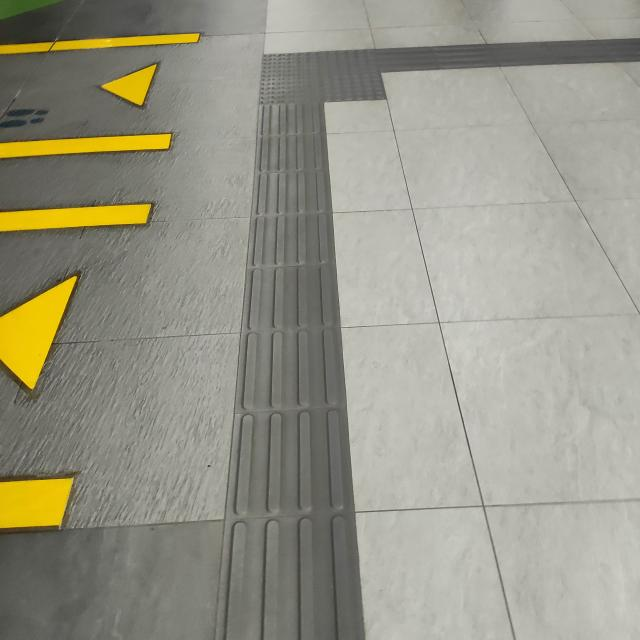kanan: (243, 37, 468, 118)
